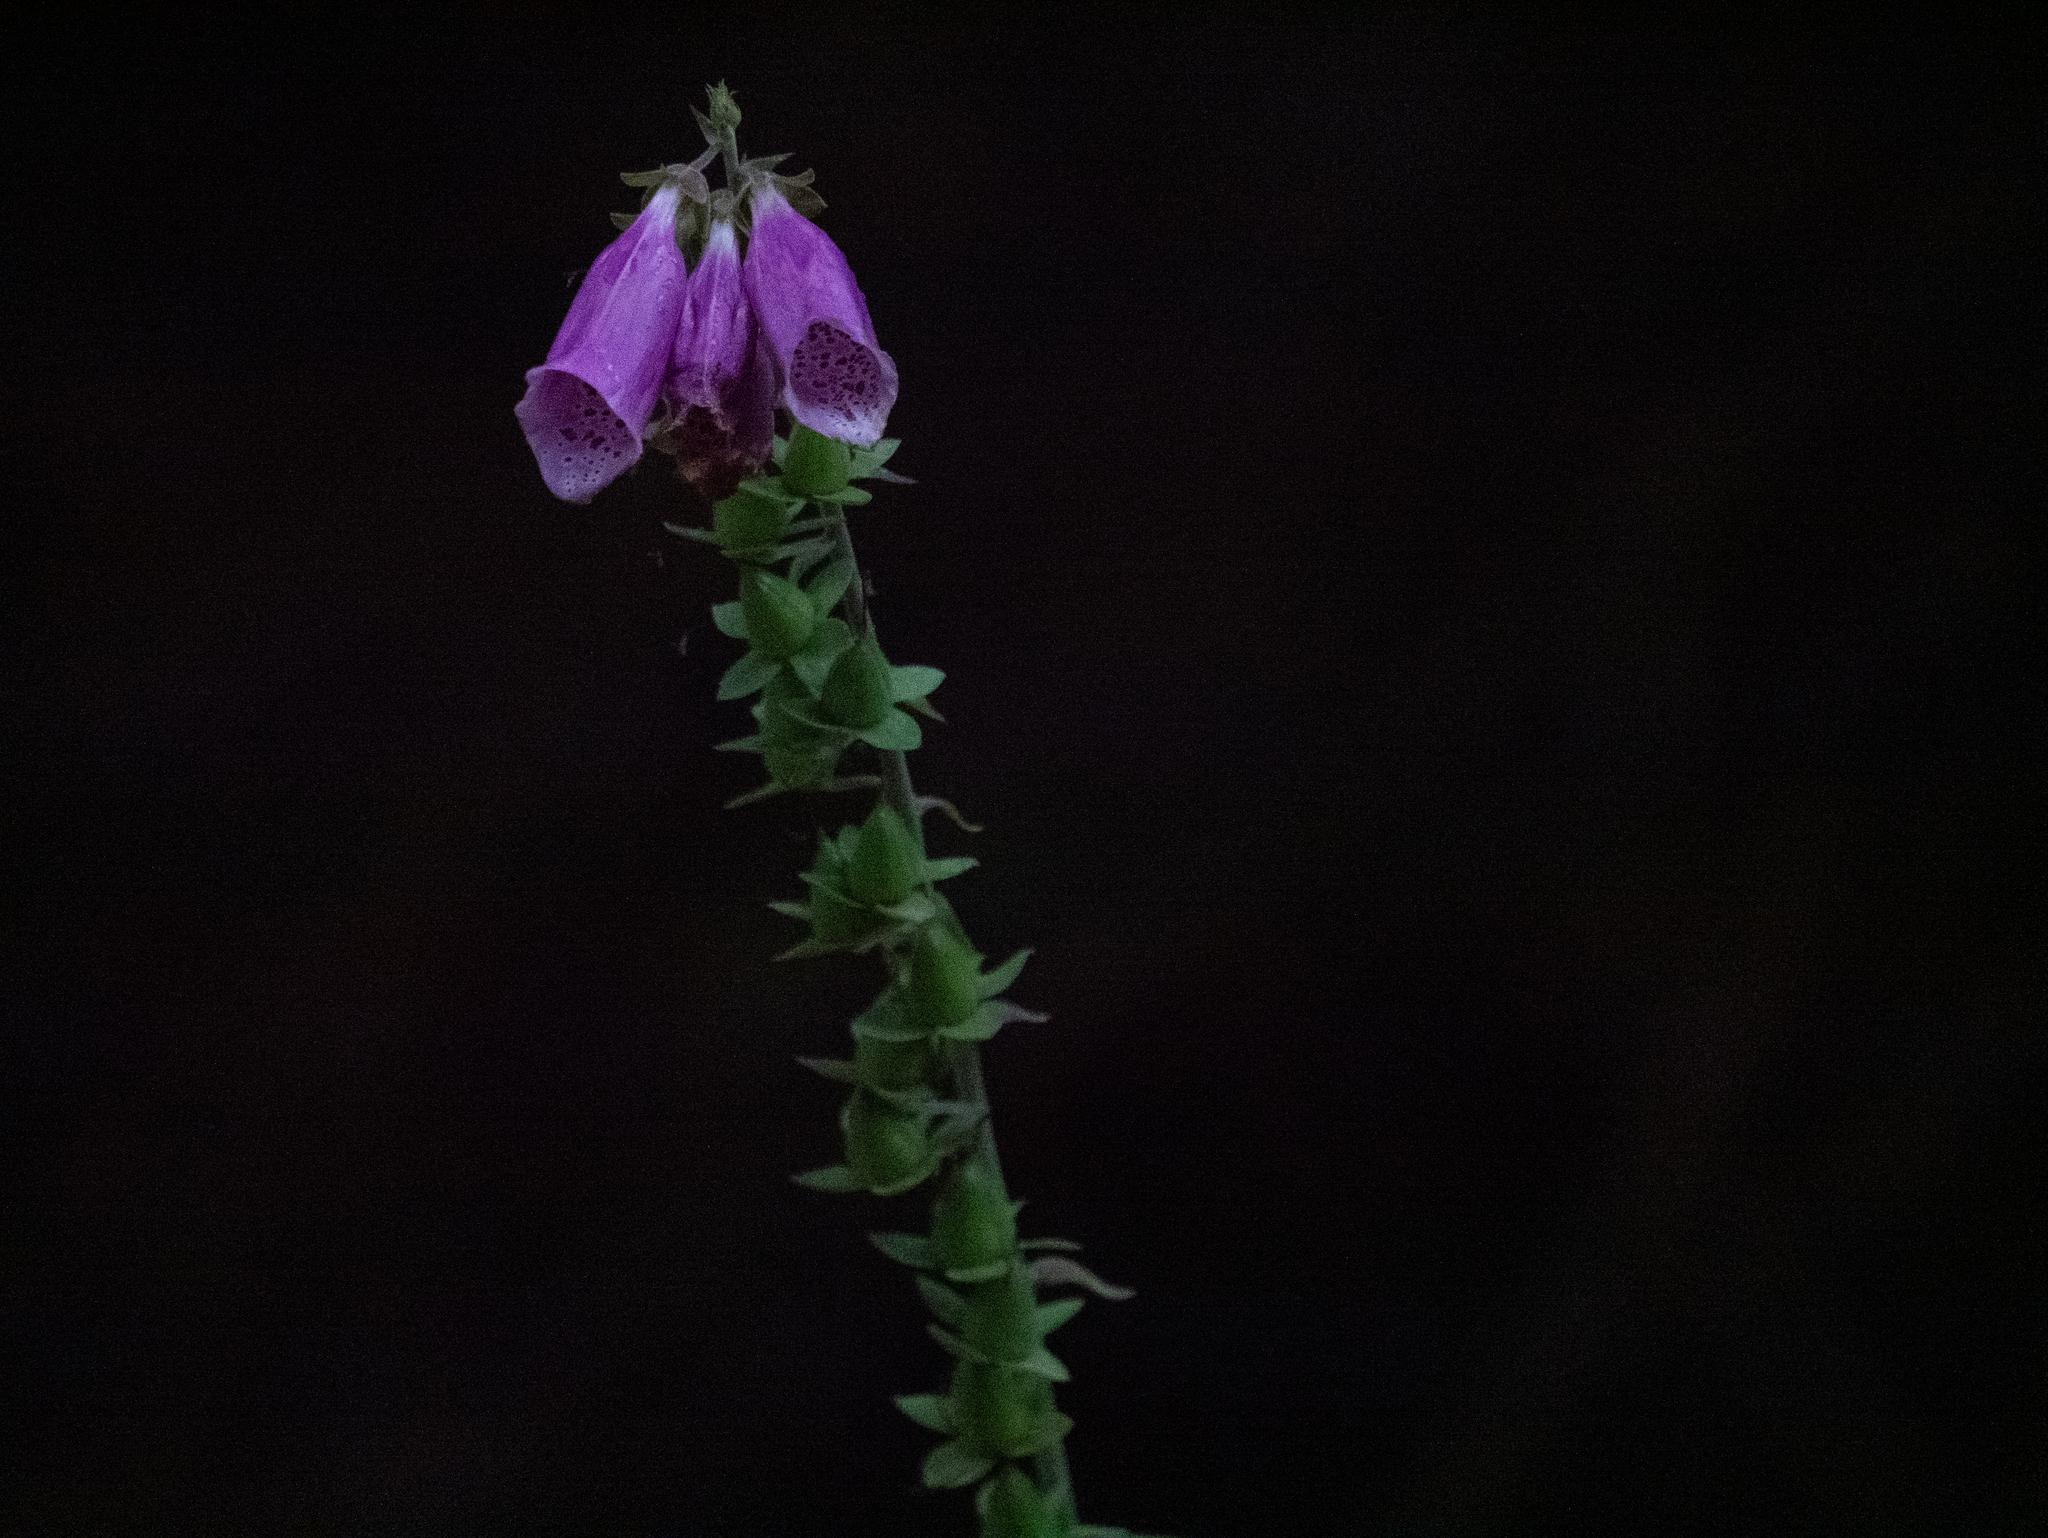Digitalis L: (510, 86, 1139, 1499)
